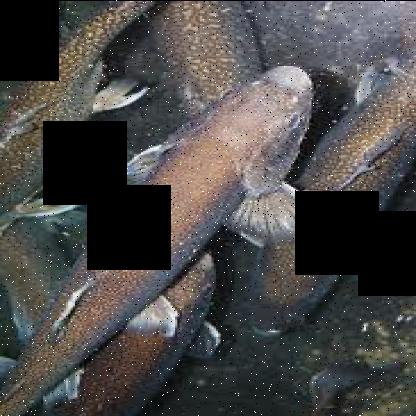fish: (0, 63, 328, 415)
